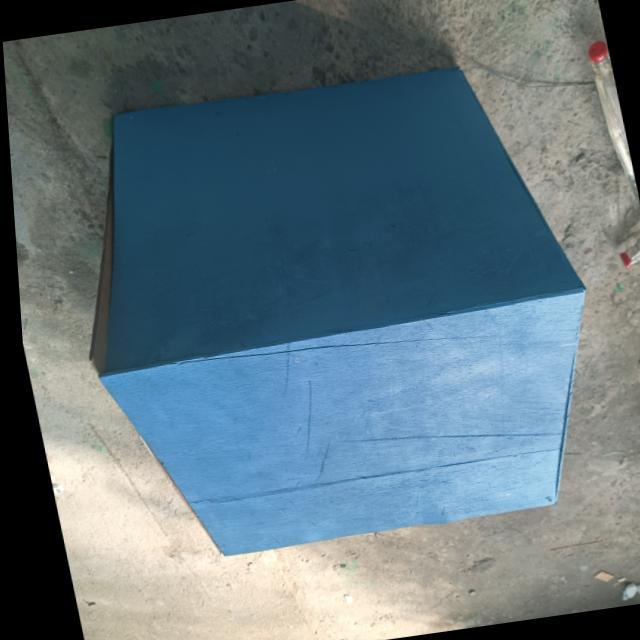blue_box: (26, 39, 632, 582)
